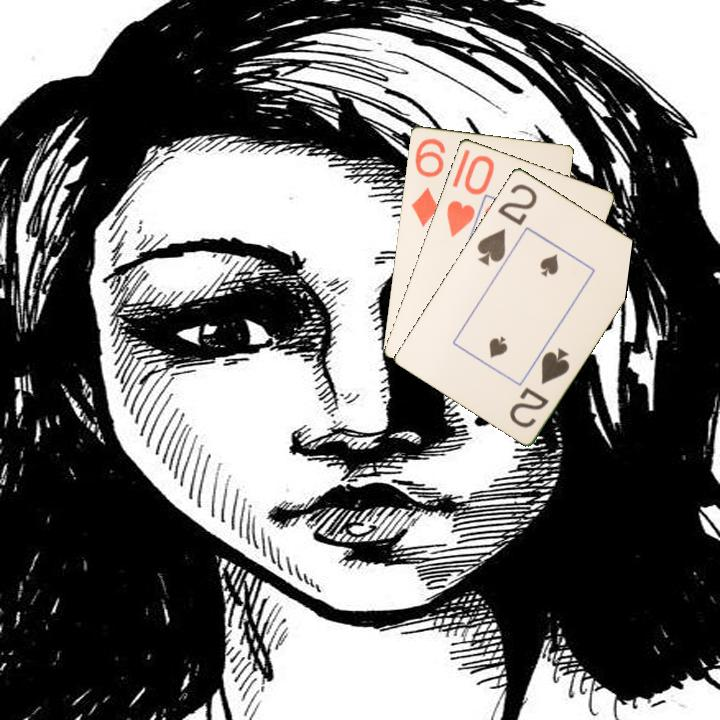10h: (443, 151, 496, 240)
2s: (473, 180, 540, 269), (506, 343, 573, 431)
6d: (407, 134, 448, 230)
